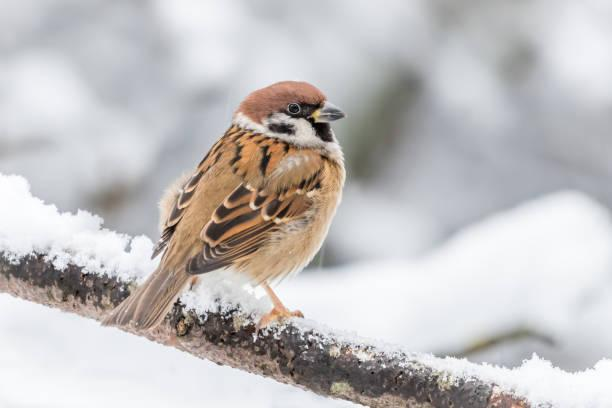bird: (103, 81, 345, 329)
